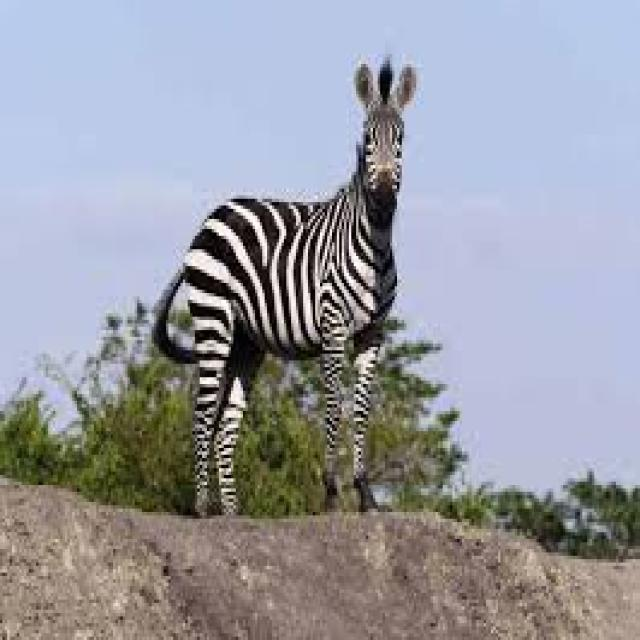Zebra: (157, 61, 417, 517)
